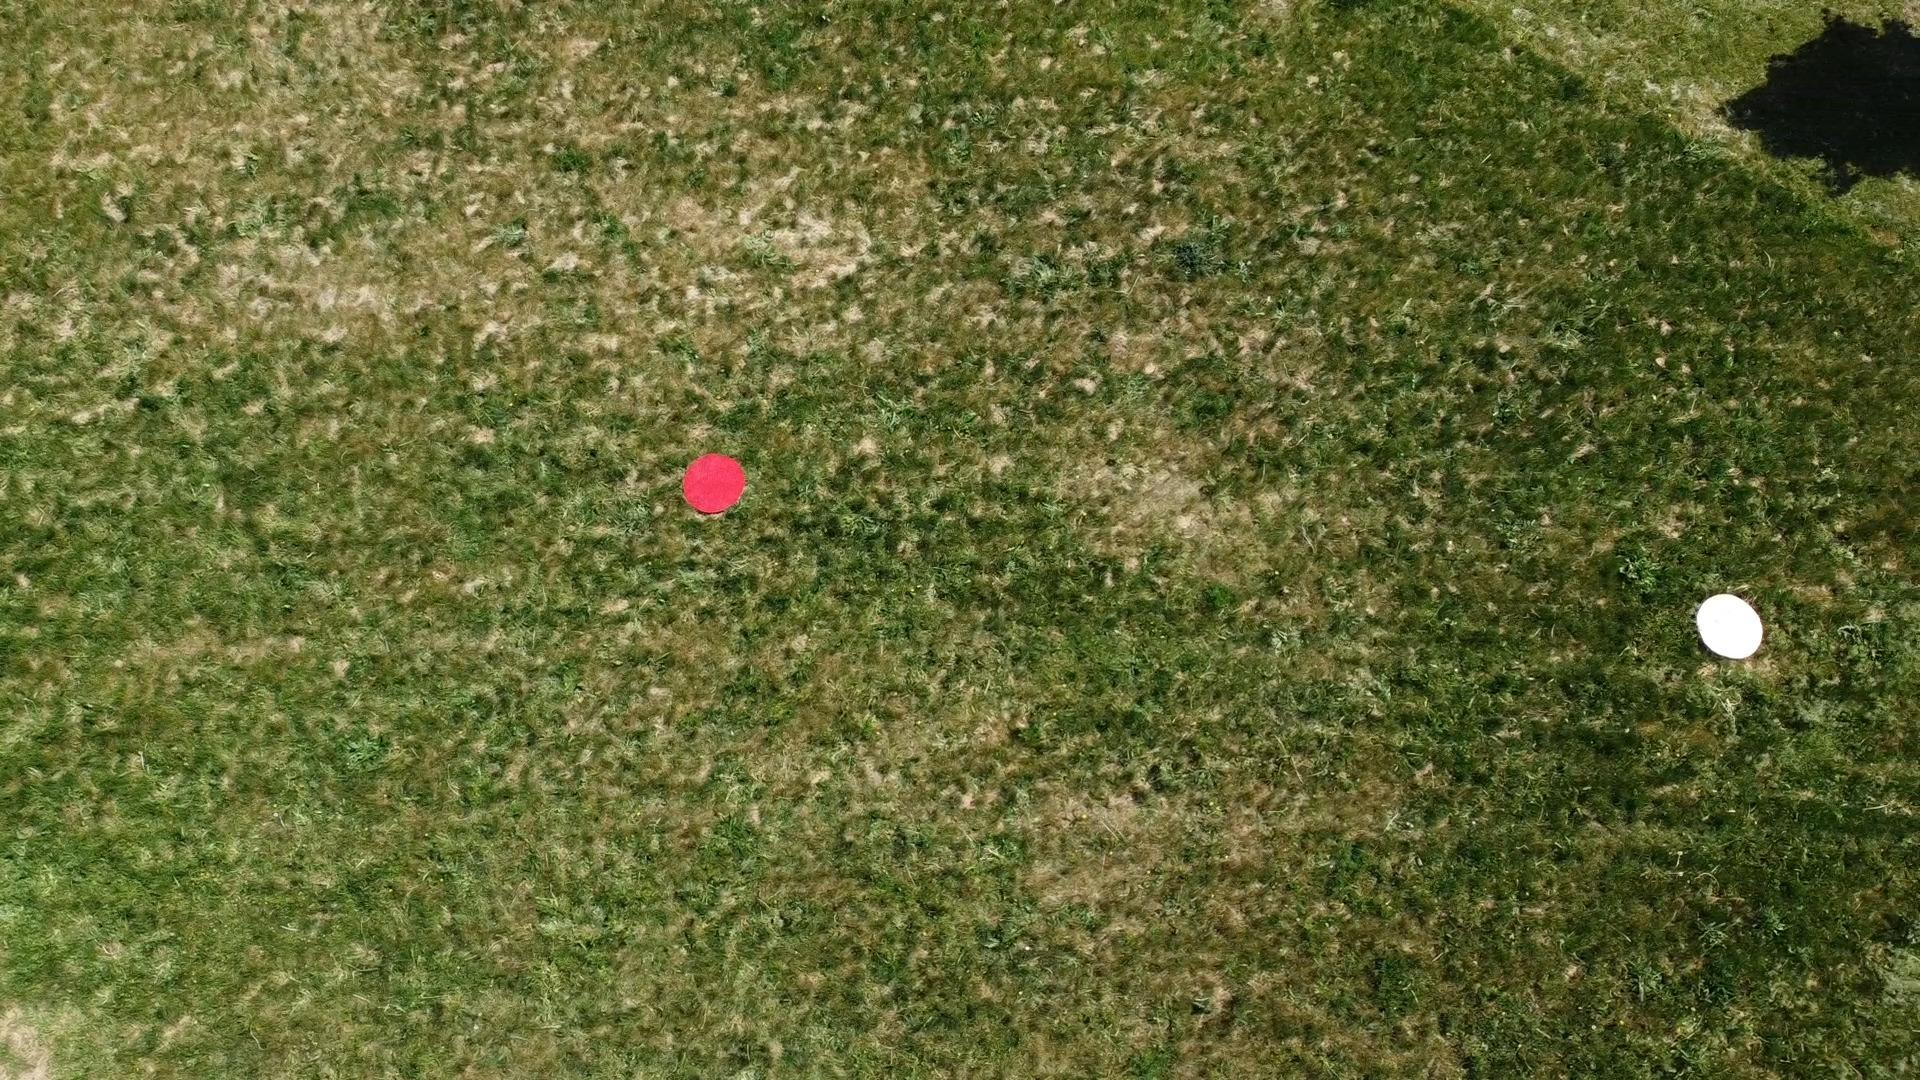Red: (1693, 591, 1767, 665), (680, 448, 750, 517)
